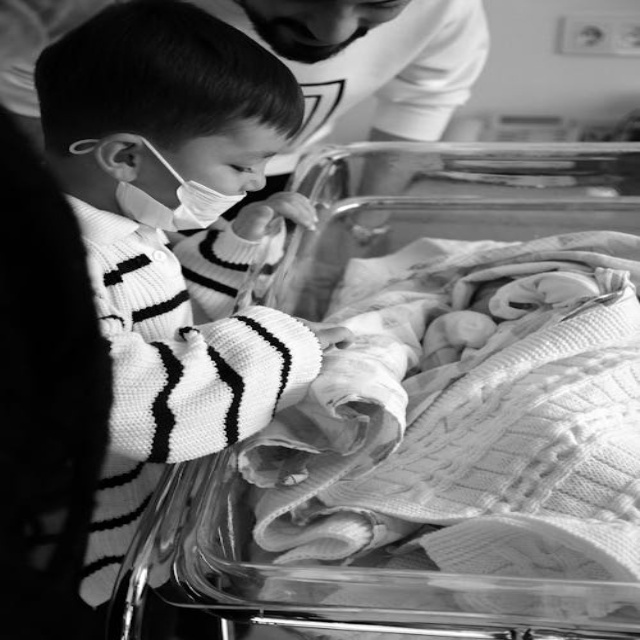Mascara: (82, 136, 246, 236)
Sin_gafas: (193, 143, 276, 177)
Sin_guantes: (229, 185, 328, 246)
